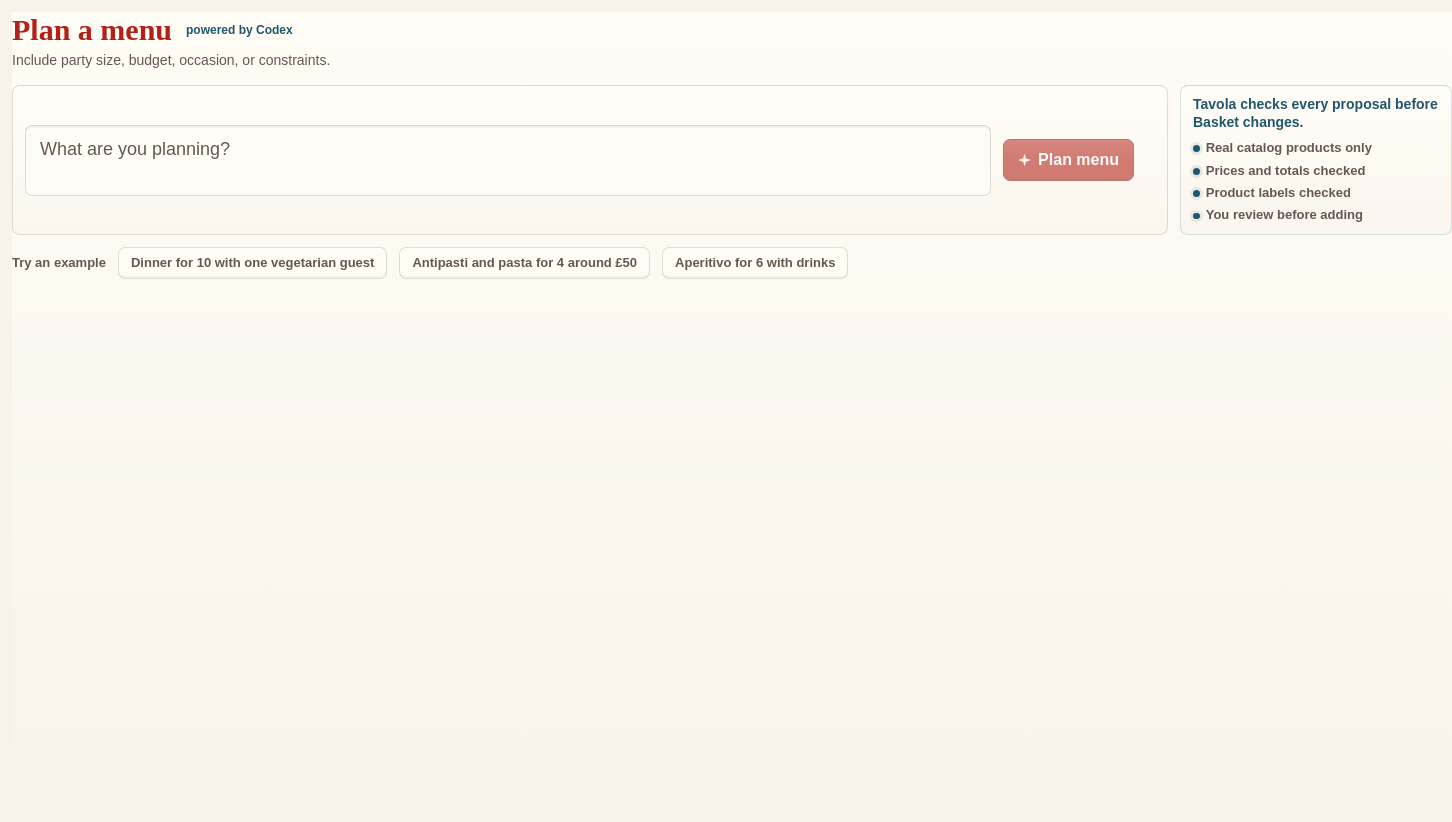
it: PlannerWorkspace › renders proposal copy without internal SKU language
Type "Vegetarian dinner for 4 around £50" into the text box named "Meal request" at (508, 160), box x1=25 y1=125 x2=991 y2=196
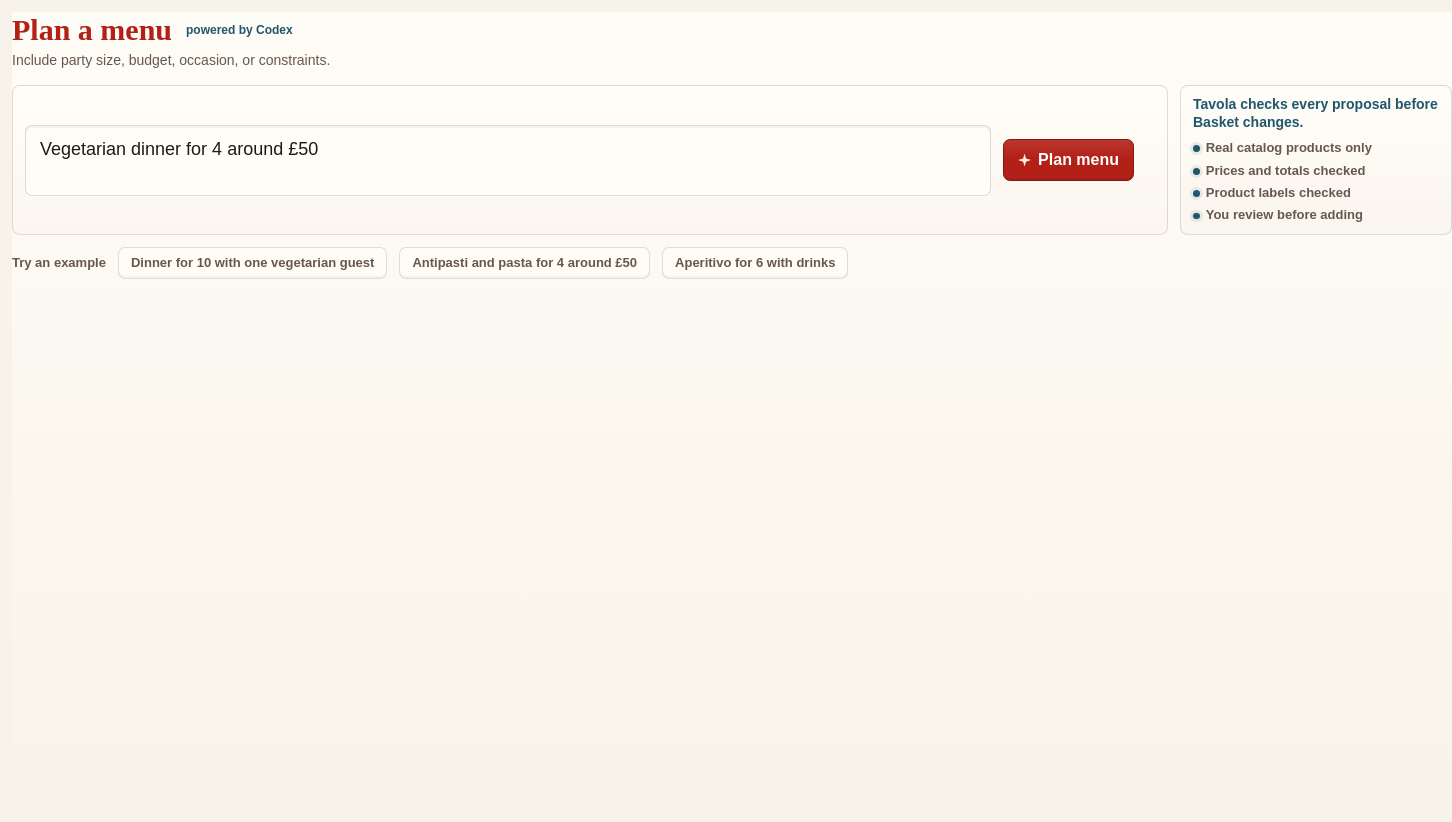
Click the button "Plan menu" at (1068, 160), box x1=1003 y1=139 x2=1134 y2=181
Wait 2000 ms
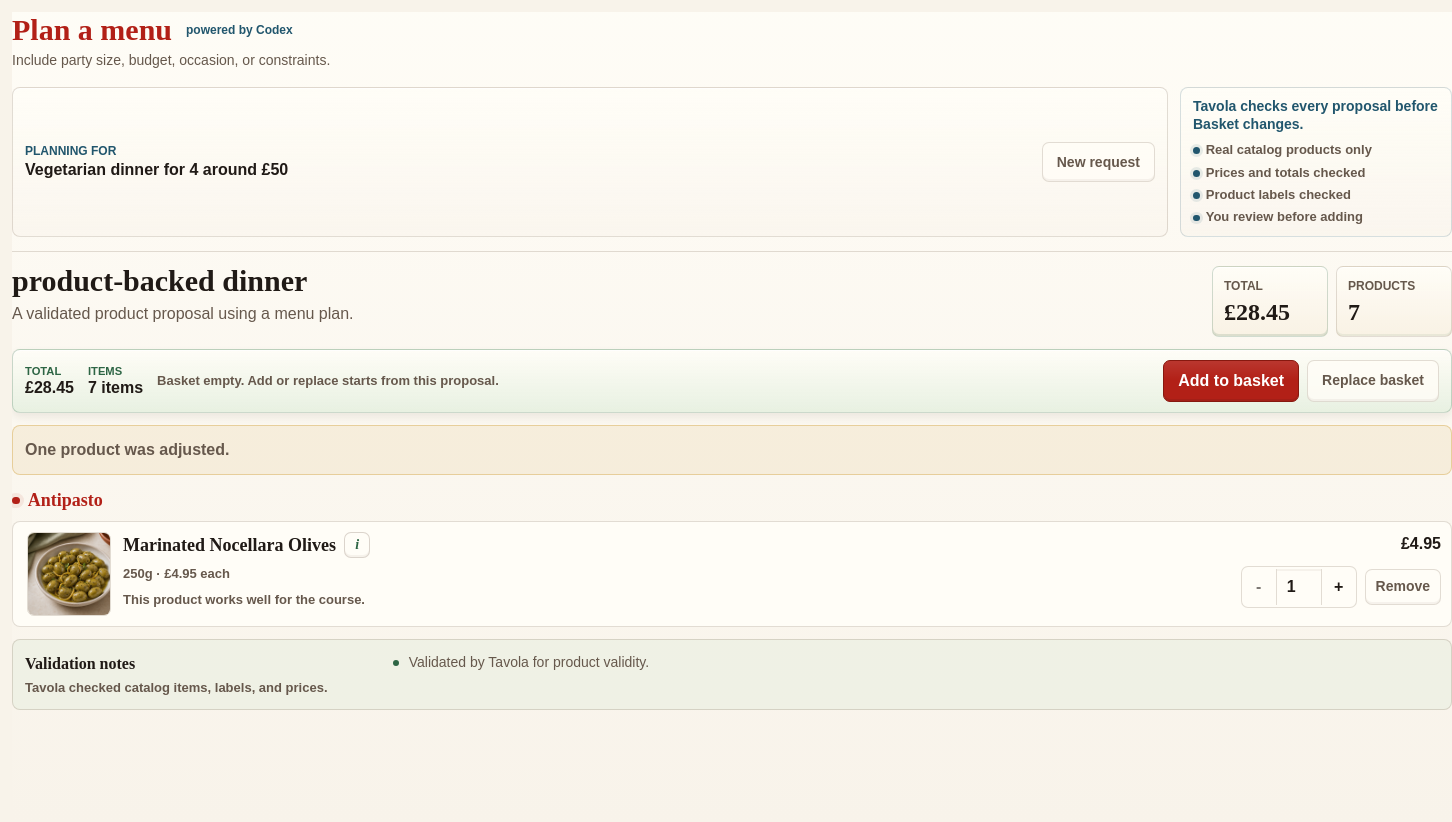
Check: the heading "product-backed dinner" is shown, box x1=12 y1=264 x2=307 y2=297
Check: the text "A validated product proposal using a menu plan." is shown, box x1=12 y1=305 x2=354 y2=322
Check: the list item "Validated by Tavola for product validity." is shown, box x1=409 y1=654 x2=649 y2=670
